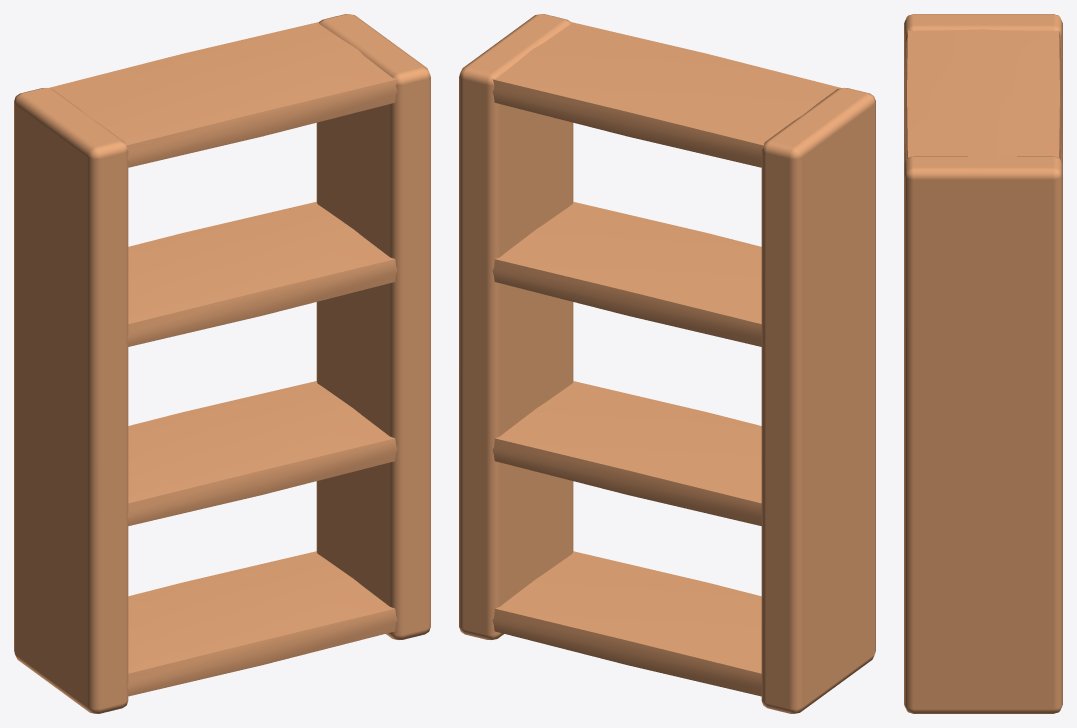
File: shelf.glb
3 renders of one model, left to right at view 1: azimuth 30°, elevation 25°; view 2: azimuth 150°, elevation 25°; view 3: azimuth 270°, elevation 25°, orthographic. The views are drawn at different scales.
Visible parts, largest first — view 1: part (×6); view 2: part (×6); view 3: part (×3).
Part boxes in pixels (box(x1,y1,x2,y2)): part (×6): box(14, 14, 430, 713); part (×6): box(459, 14, 875, 713); part (×3): box(904, 14, 1062, 713).
Bounding box in the file's own units: 1.2 × 1.9 × 0.5.
1 material, 1 textured.
